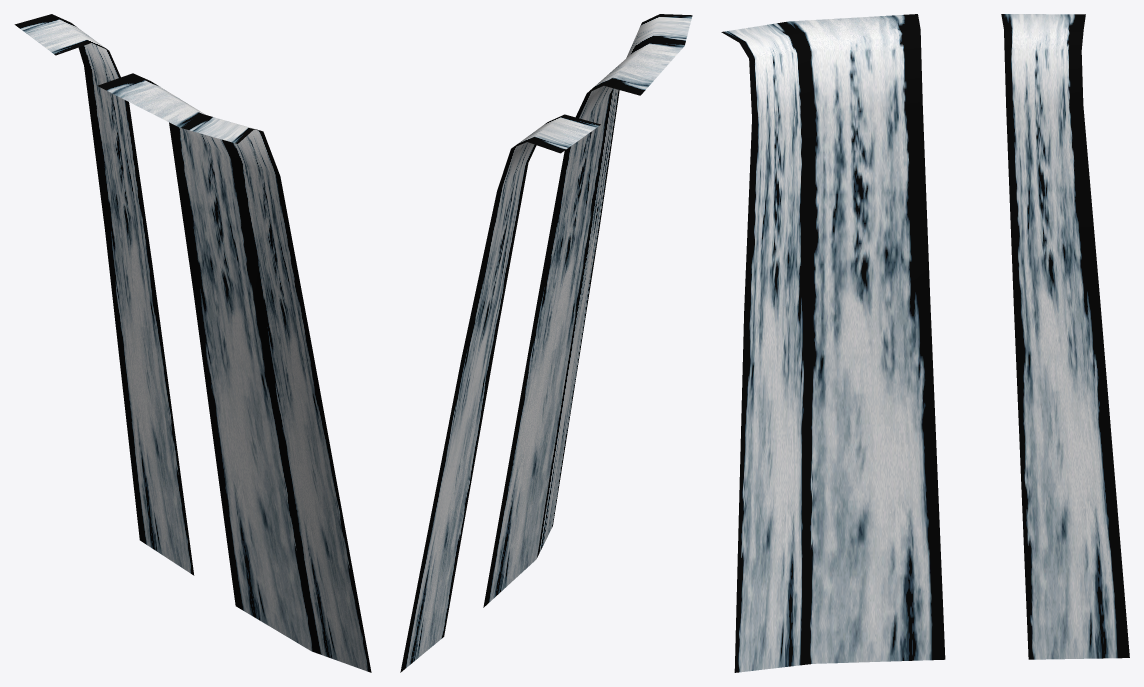
The model's file is jd_shui_2.FBX.
3 views of the same model, side by side, from view 1: azimuth 30°, elevation 25°; view 2: azimuth 150°, elevation 25°; view 3: azimuth 270°, elevation 25° (orthographic). The views are drawn at different scales.
Parts seen in each view (by area): view 1: jd_shui_2; view 2: jd_shui_2; view 3: jd_shui_2.
Boxes of the visible parts, box(x1,y1,x2,y2) form: jd_shui_2: box(14, 14, 371, 672); jd_shui_2: box(400, 14, 692, 672); jd_shui_2: box(721, 14, 1129, 672).
Size of the model in its own units: 2667 by 7950 by 5114.
